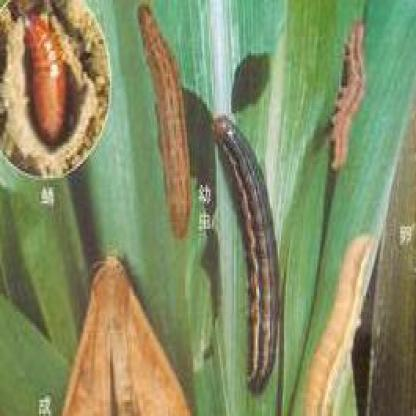armyworm: (54, 251, 196, 416), (214, 103, 288, 395), (138, 1, 196, 247), (299, 232, 374, 416), (23, 10, 79, 152), (329, 14, 369, 177)
